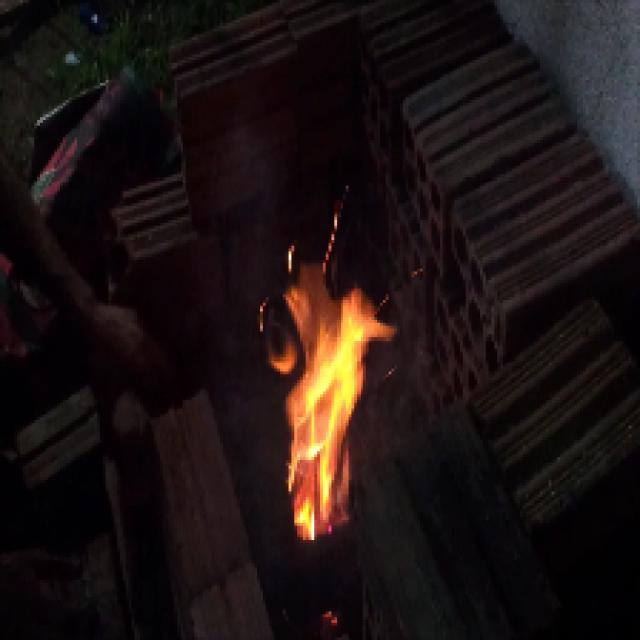Fire: (274, 261, 379, 530)
